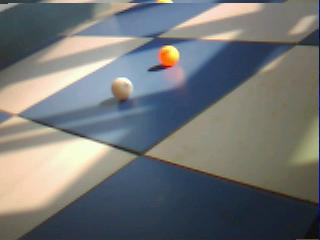oball: (159, 46, 178, 65)
